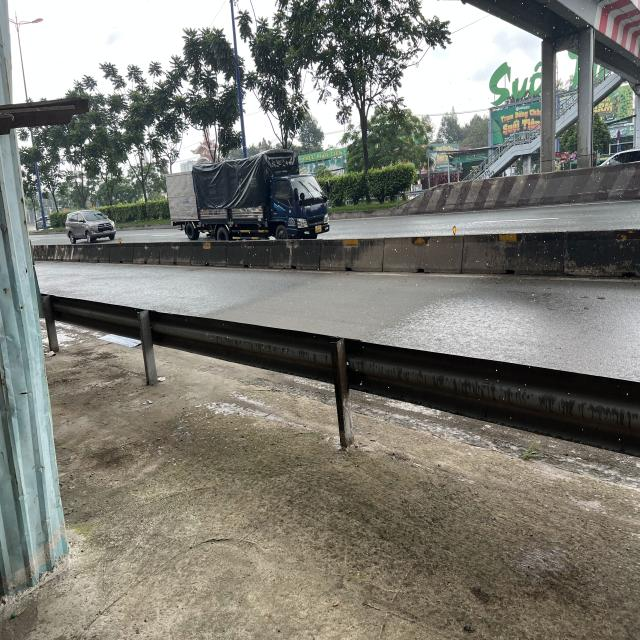car: (66, 210, 117, 244), (599, 150, 638, 170)
truck: (193, 154, 331, 238)
